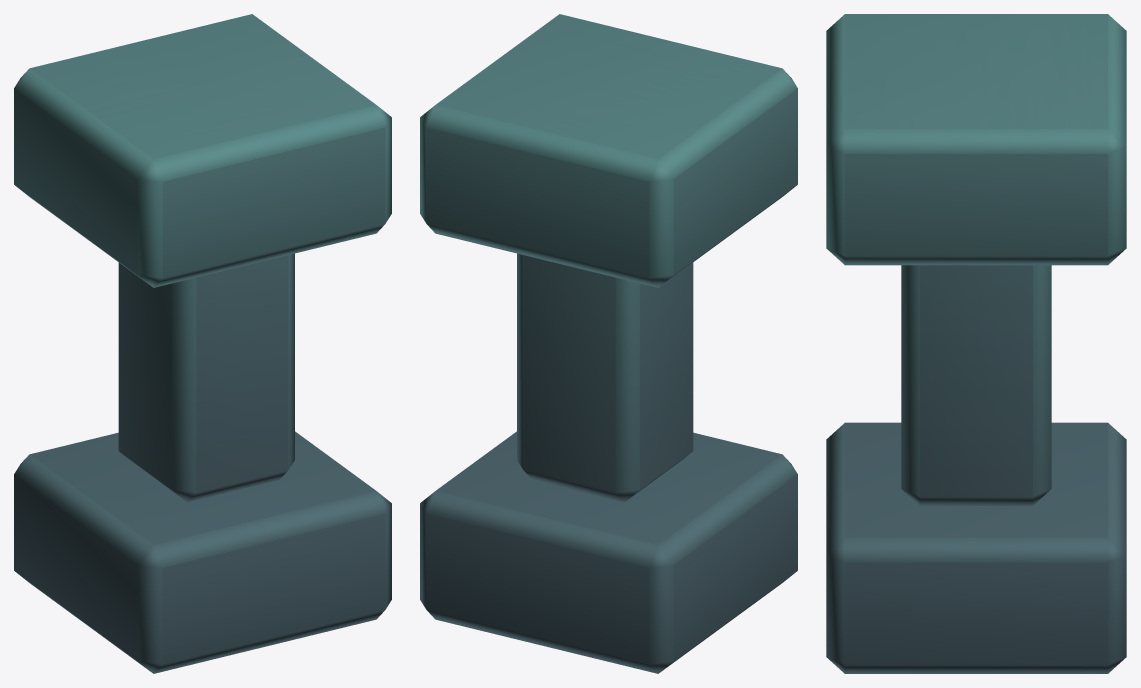
Rendered from fence_01_half_hue_1.fbx.
3 views of the same model, side by side, from view 1: azimuth 30°, elevation 25°; view 2: azimuth 150°, elevation 25°; view 3: azimuth 270°, elevation 25° (orthographic). The views are drawn at different scales.
Parts seen in each view (by area): view 1: fence_01_half_hue_1; view 2: fence_01_half_hue_1; view 3: fence_01_half_hue_1.
Boxes of the visible parts, x1=… form: fence_01_half_hue_1: x1=14, y1=14, x2=391, y2=673; fence_01_half_hue_1: x1=420, y1=14, x2=797, y2=673; fence_01_half_hue_1: x1=826, y1=14, x2=1126, y2=673.
Size of the model in its own units: 51.56 by 100 by 50.
